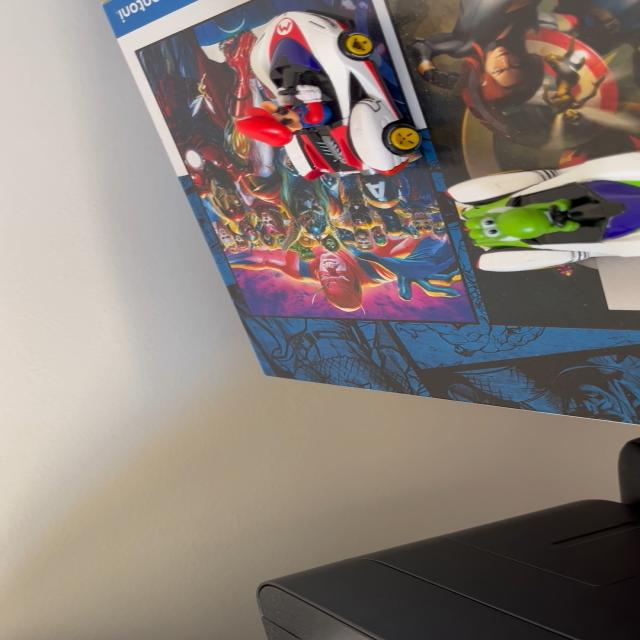mario: (222, 5, 438, 192)
yoshi: (436, 152, 640, 290)
